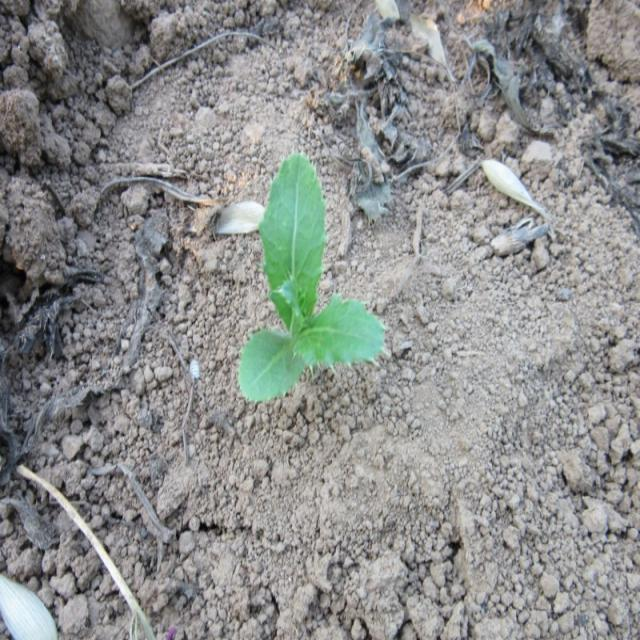cs: (233, 150, 393, 408)
